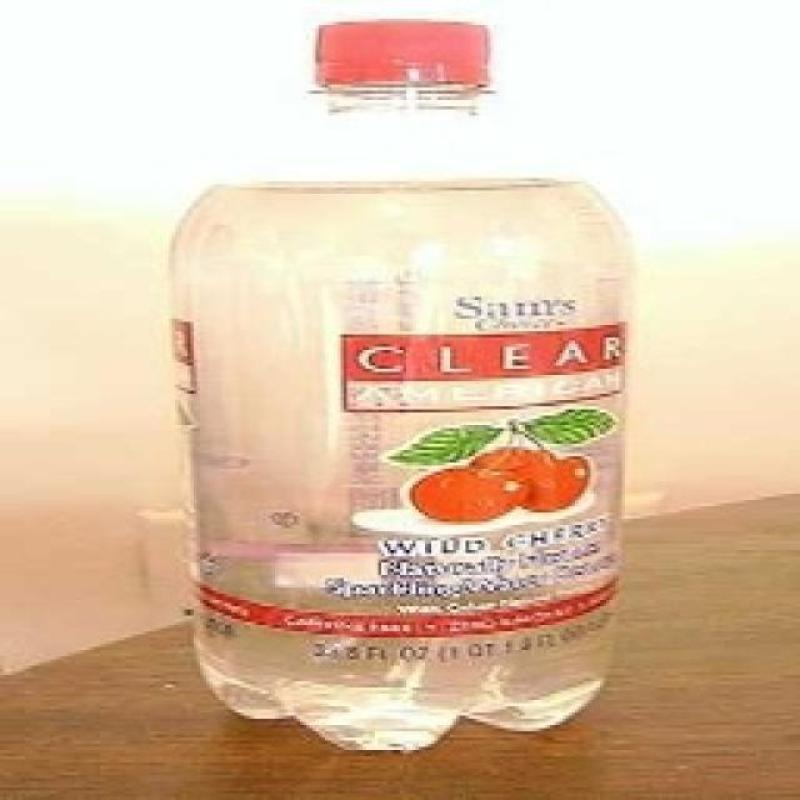botella: (175, 24, 635, 754)
